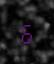six: (19, 19, 32, 44)
